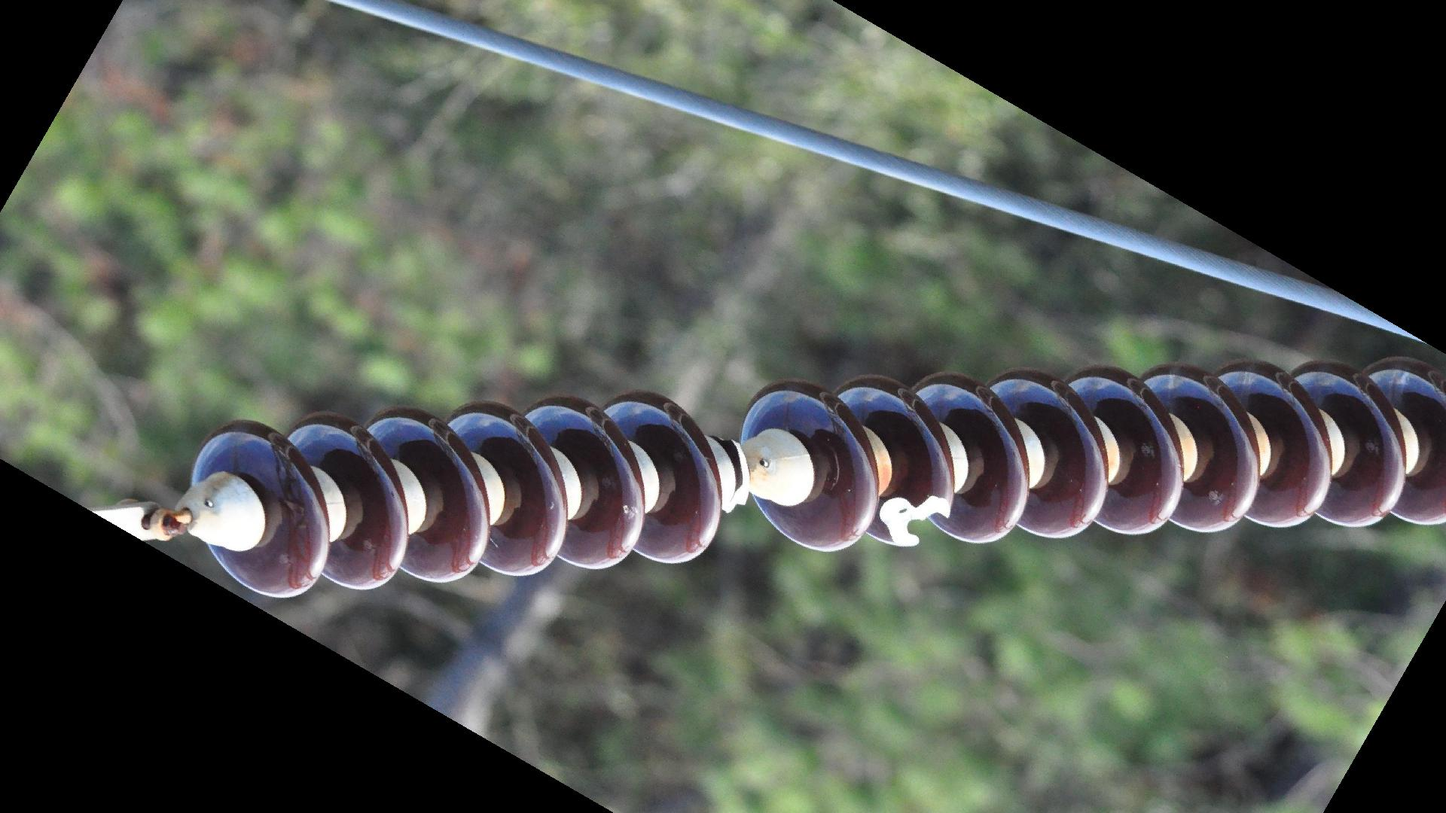insulator: (740, 343, 1446, 560), (183, 383, 732, 612)
insulator_breakage: (874, 483, 956, 556)
